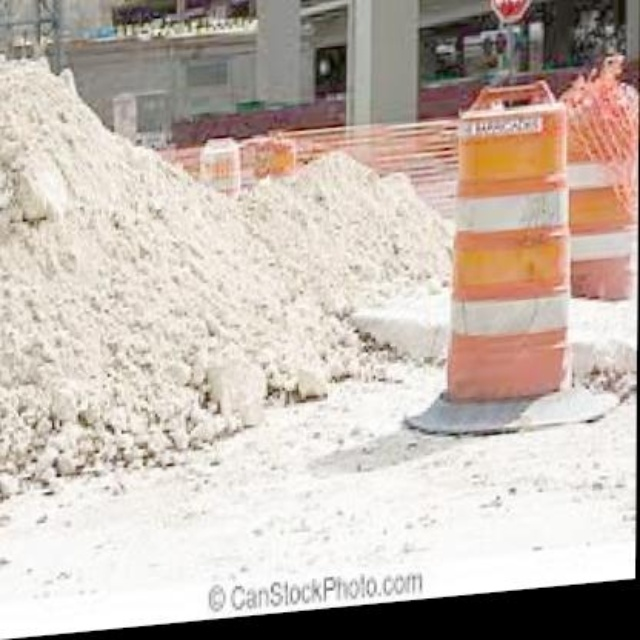obstacle: (451, 89, 580, 428)
